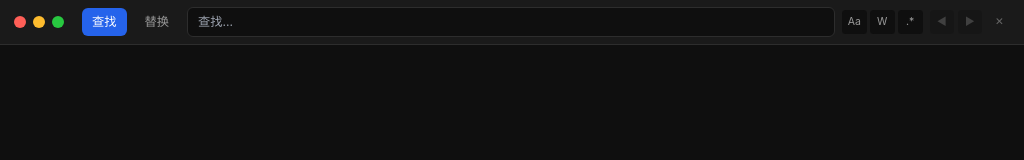
it: FindReplaceBar — Inline Bar (Typora-style) › switches to Replace tab and shows replace input
What coordinates should you click on to do the following:
click the button "替换"
I would click on:
 (157, 22)
Its box is [134,8,180,36].
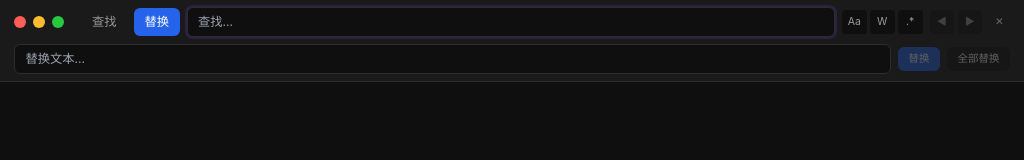
Expected: the field with placeholder "替换文本..." is shown, [14,44,891,74]
